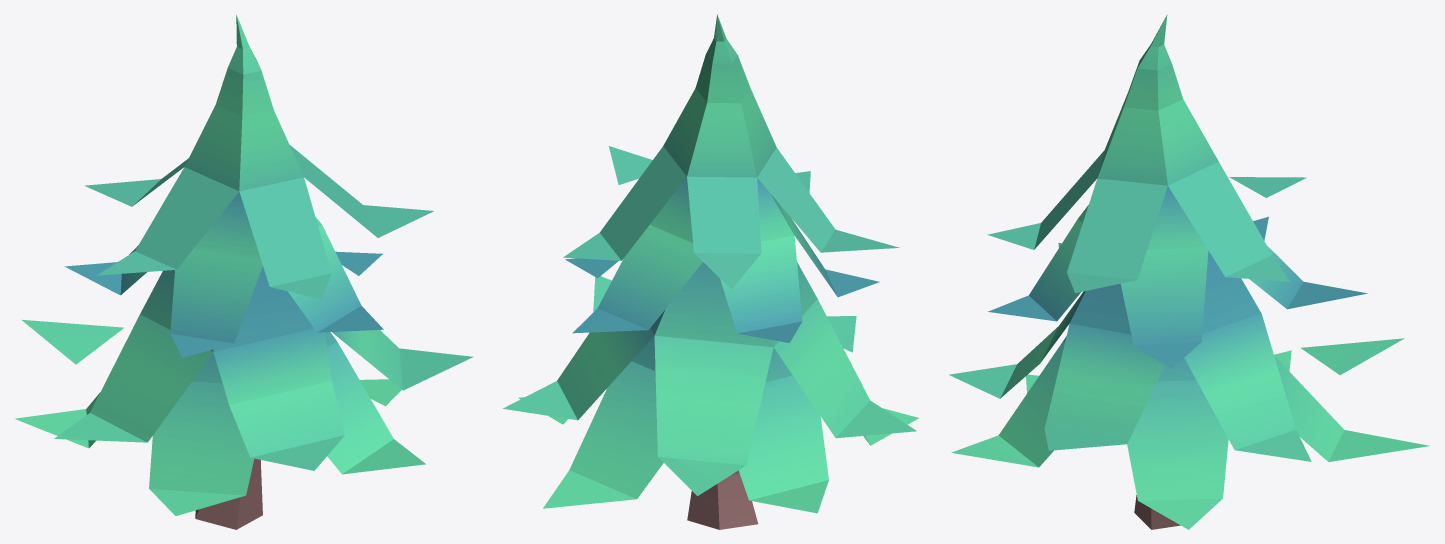
File: pine_tree_2.gltf
3 views of the same model, side by side, from view 1: azimuth 30°, elevation 25°; view 2: azimuth 150°, elevation 25°; view 3: azimuth 270°, elevation 25° (orthographic).
Parts seen in each view (by area): view 1: Object_0; view 2: Object_0; view 3: Object_0.
Boxes of the visible parts, x1=… form: Object_0: x1=14, y1=14, x2=472, y2=529; Object_0: x1=503, y1=14, x2=918, y2=529; Object_0: x1=949, y1=14, x2=1429, y2=529.
Bounding box in the file's own units: 12.22 × 15.48 × 13.35.
1 material, 1 textured.
